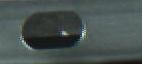holes: (16, 8, 87, 52)
